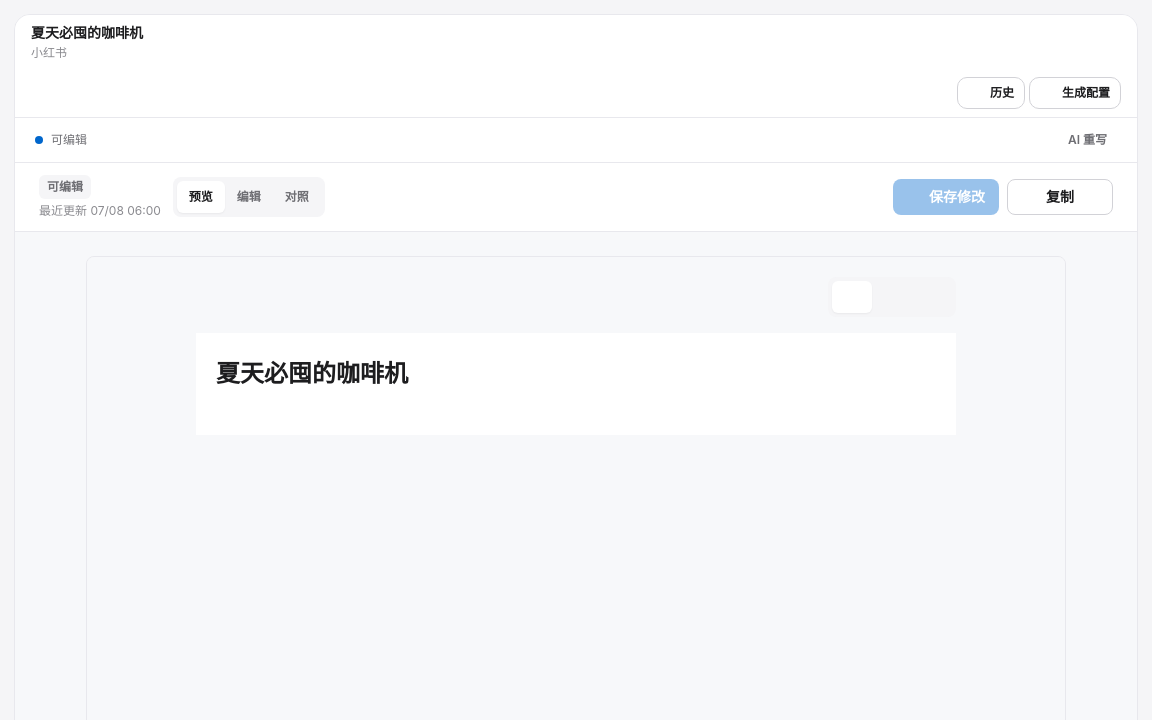
Scenario: ArticleWorkflowStudio 失败行处理 › caption 完成态直接展示底部配图，并可展开 AI 重写
Click the button "AI 重写" at coordinates (1076, 140), box 1036,124 -> 1117,156
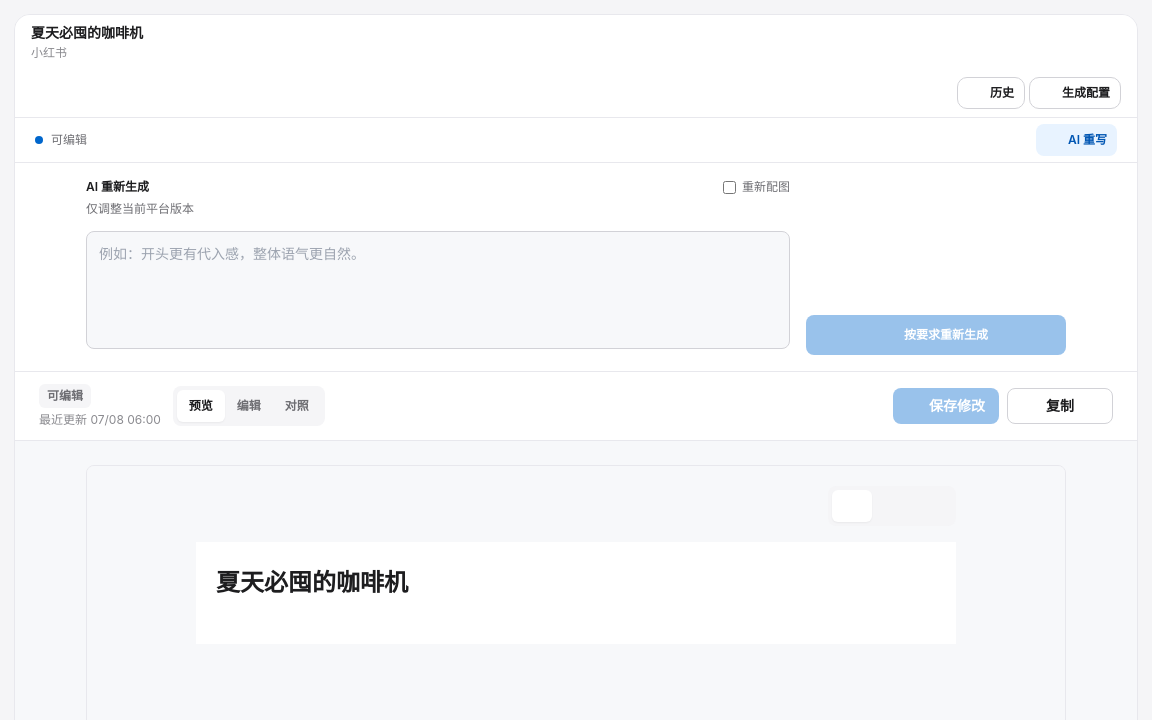
Check: the text box named "重新生成要求" is shown, box 86,231 -> 790,349
